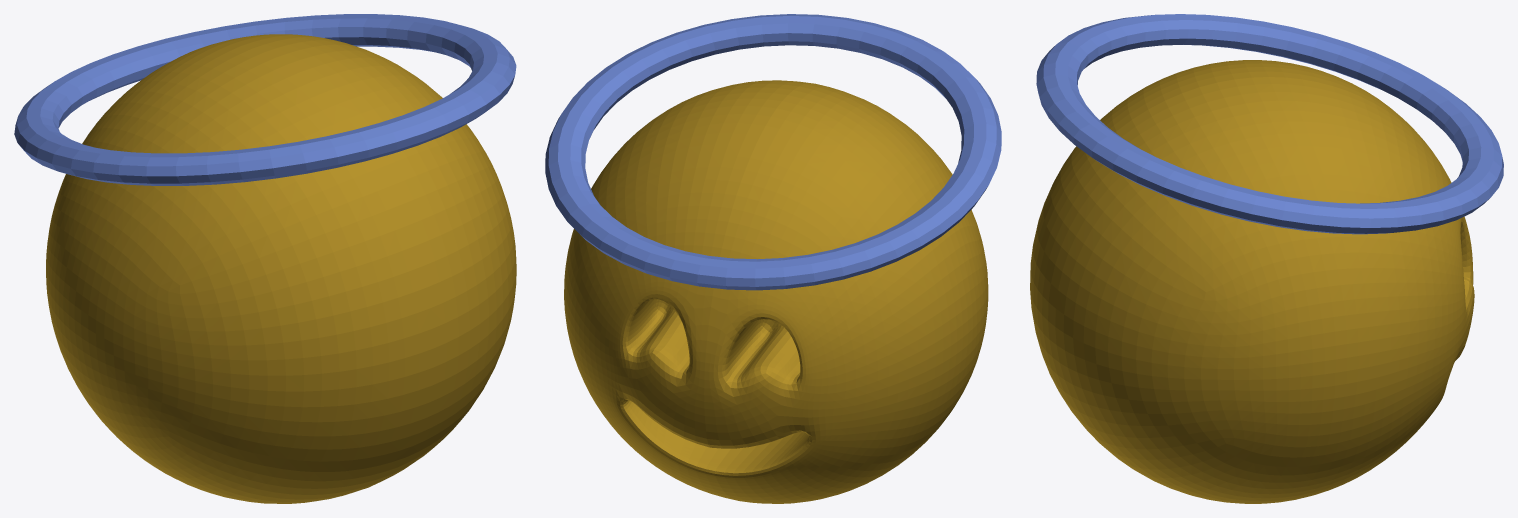
File: innocent.obj
3 views of the same model, side by side, from view 1: azimuth 30°, elevation 25°; view 2: azimuth 150°, elevation 25°; view 3: azimuth 270°, elevation 25° (orthographic). The views are drawn at different scales.
Visible parts, largest first — view 1: Group38964, Torus001; view 2: Group38964, Torus001; view 3: Group38964, Torus001.
Part boxes in pixels (<box>): Group38964: <box>46,34,516,503</box>; Torus001: <box>14,14,516,185</box>; Group38964: <box>564,80,988,503</box>; Torus001: <box>545,14,1001,290</box>; Group38964: <box>1030,60,1474,503</box>; Torus001: <box>1036,14,1503,234</box>.
Bounding box in the file's own units: 2.15 × 2.03 × 2.12.
